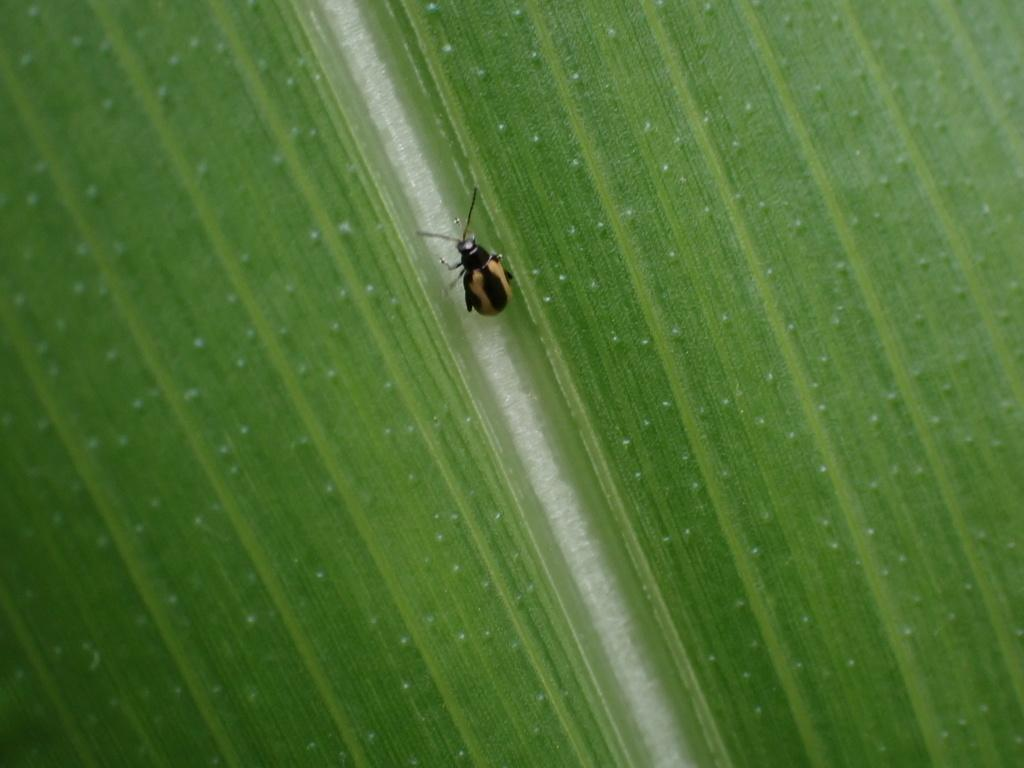flea_beetle: (391, 156, 567, 349)
